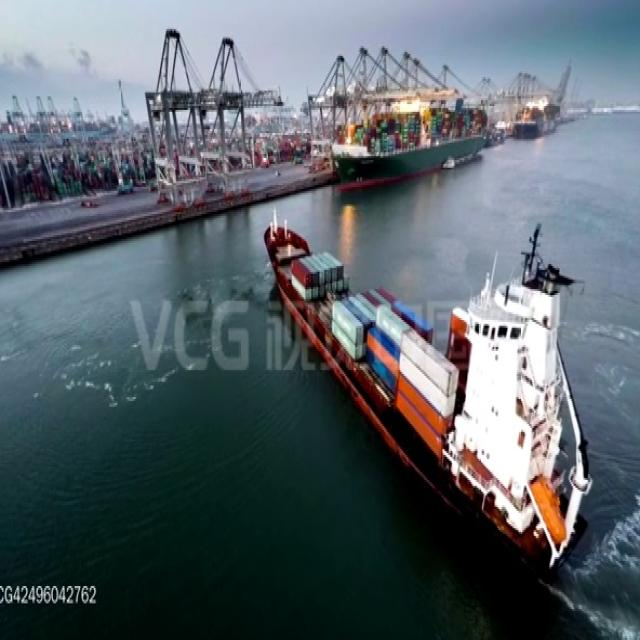cargoship: (262, 202, 590, 576)
